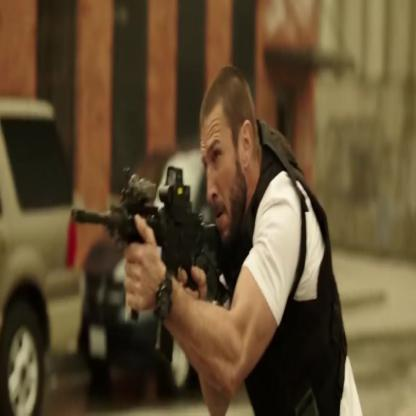Gun: (64, 132, 236, 382)
